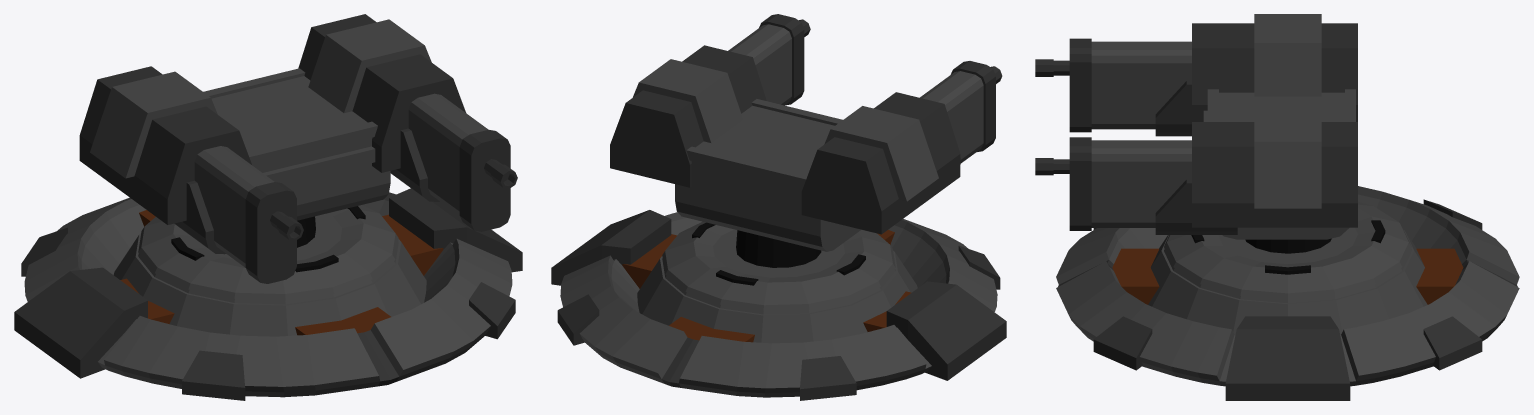
File: Turret_GunDouble.obj
The picture shows the model from 3 angles, left to right: view 1: azimuth 30°, elevation 25°; view 2: azimuth 150°, elevation 25°; view 3: azimuth 270°, elevation 25°; orthographic projection. The views are drawn at different scales.
Visible parts, largest first — view 1: Turret_GunDouble_Base_Cylinder.024, Turret_GunDouble_Top_Cylinder.025; view 2: Turret_GunDouble_Base_Cylinder.024, Turret_GunDouble_Top_Cylinder.025; view 3: Turret_GunDouble_Base_Cylinder.024, Turret_GunDouble_Top_Cylinder.025.
Boxes of the visible parts, x1,y1,x2,y2 form: Turret_GunDouble_Base_Cylinder.024: (14,188,522,400); Turret_GunDouble_Top_Cylinder.025: (79,14,517,283); Turret_GunDouble_Base_Cylinder.024: (551,210,1006,400); Turret_GunDouble_Top_Cylinder.025: (610,14,1002,267); Turret_GunDouble_Base_Cylinder.024: (1056,186,1519,400); Turret_GunDouble_Top_Cylinder.025: (1035,14,1357,253).
Bounding box in the file's own units: 1.16 × 0.587 × 1.16.
